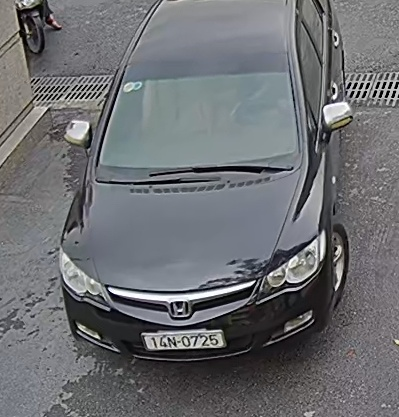vehicle plate: (136, 326, 231, 355)
